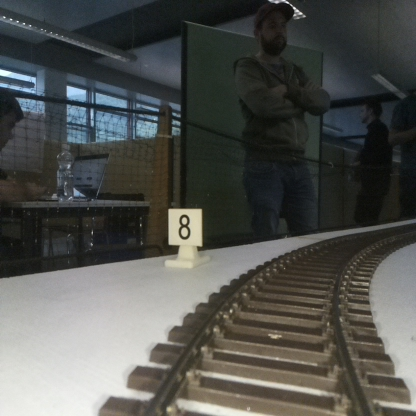white-stop-8: (168, 207, 202, 265)
